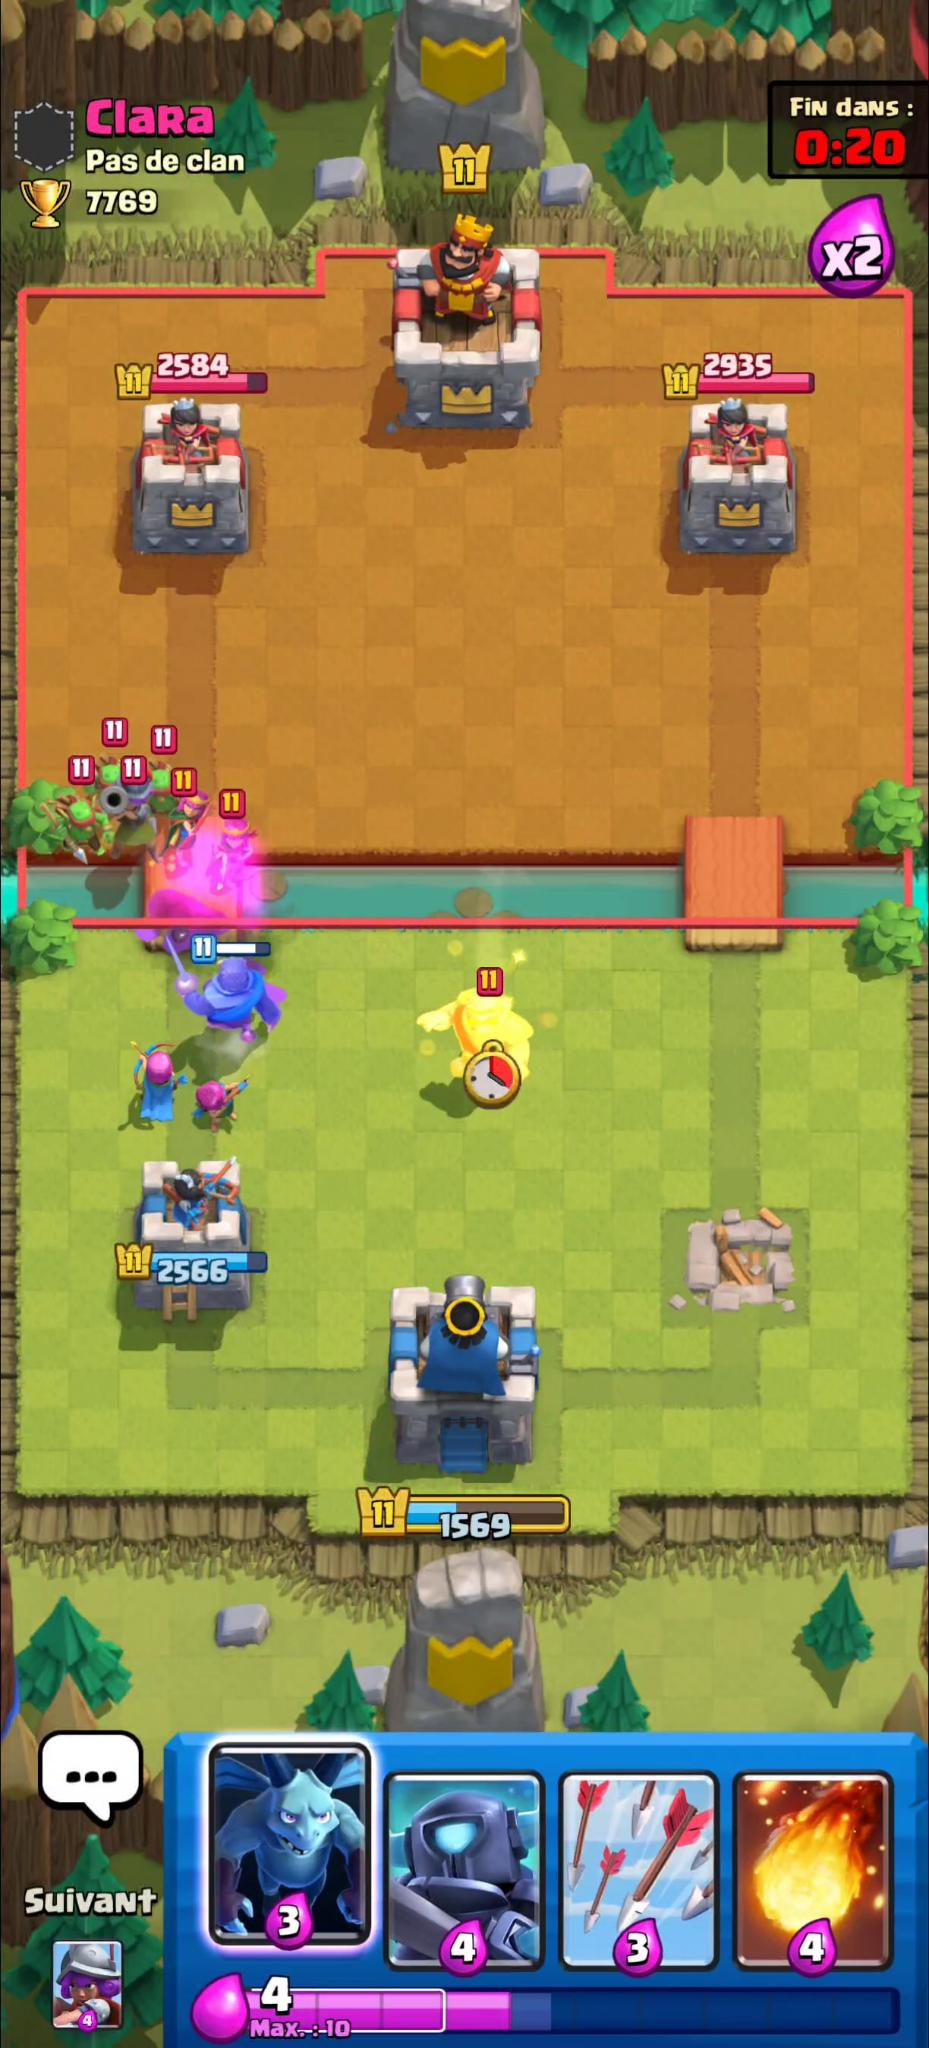archere: (125, 1038, 189, 1127), (210, 815, 261, 896), (171, 790, 210, 871), (195, 1074, 251, 1128)
chevalier: (162, 930, 289, 1049)
gobelin_lances: (42, 790, 116, 862), (150, 763, 175, 831), (89, 750, 124, 792)
mousquetaire: (103, 776, 162, 866)
